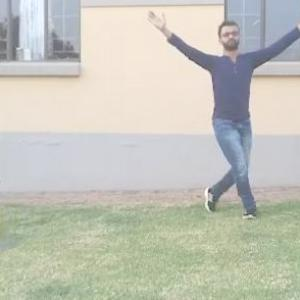takeoff: (158, 20, 295, 189)
